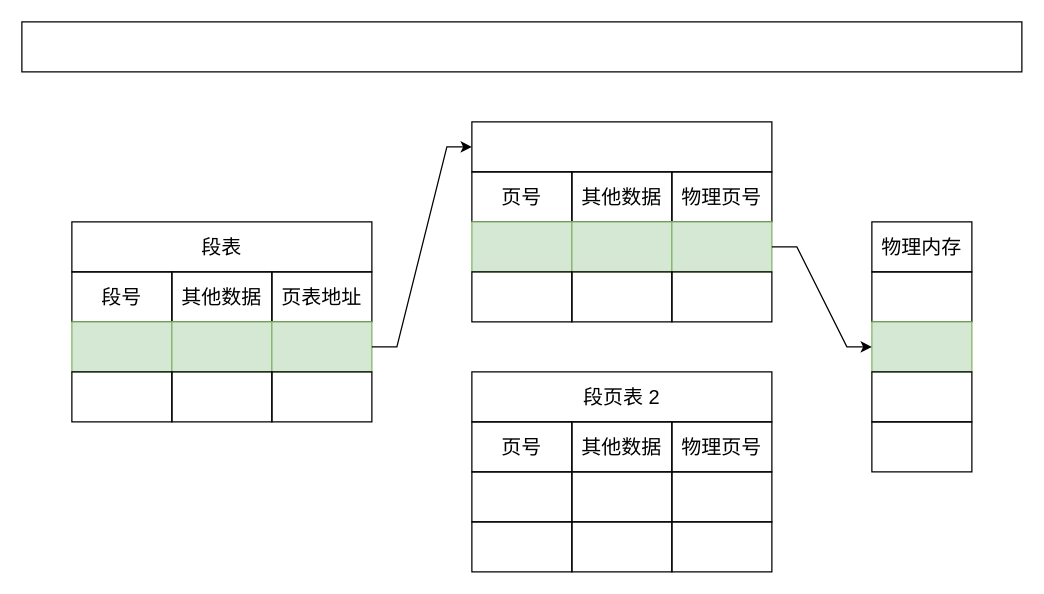
This 1044x594 diagram has some shape labels left out. The centre of each missing label's shape, as x and y in pixels:
段页式管理: the point at 521,46
段页表 1: the point at 621,146
